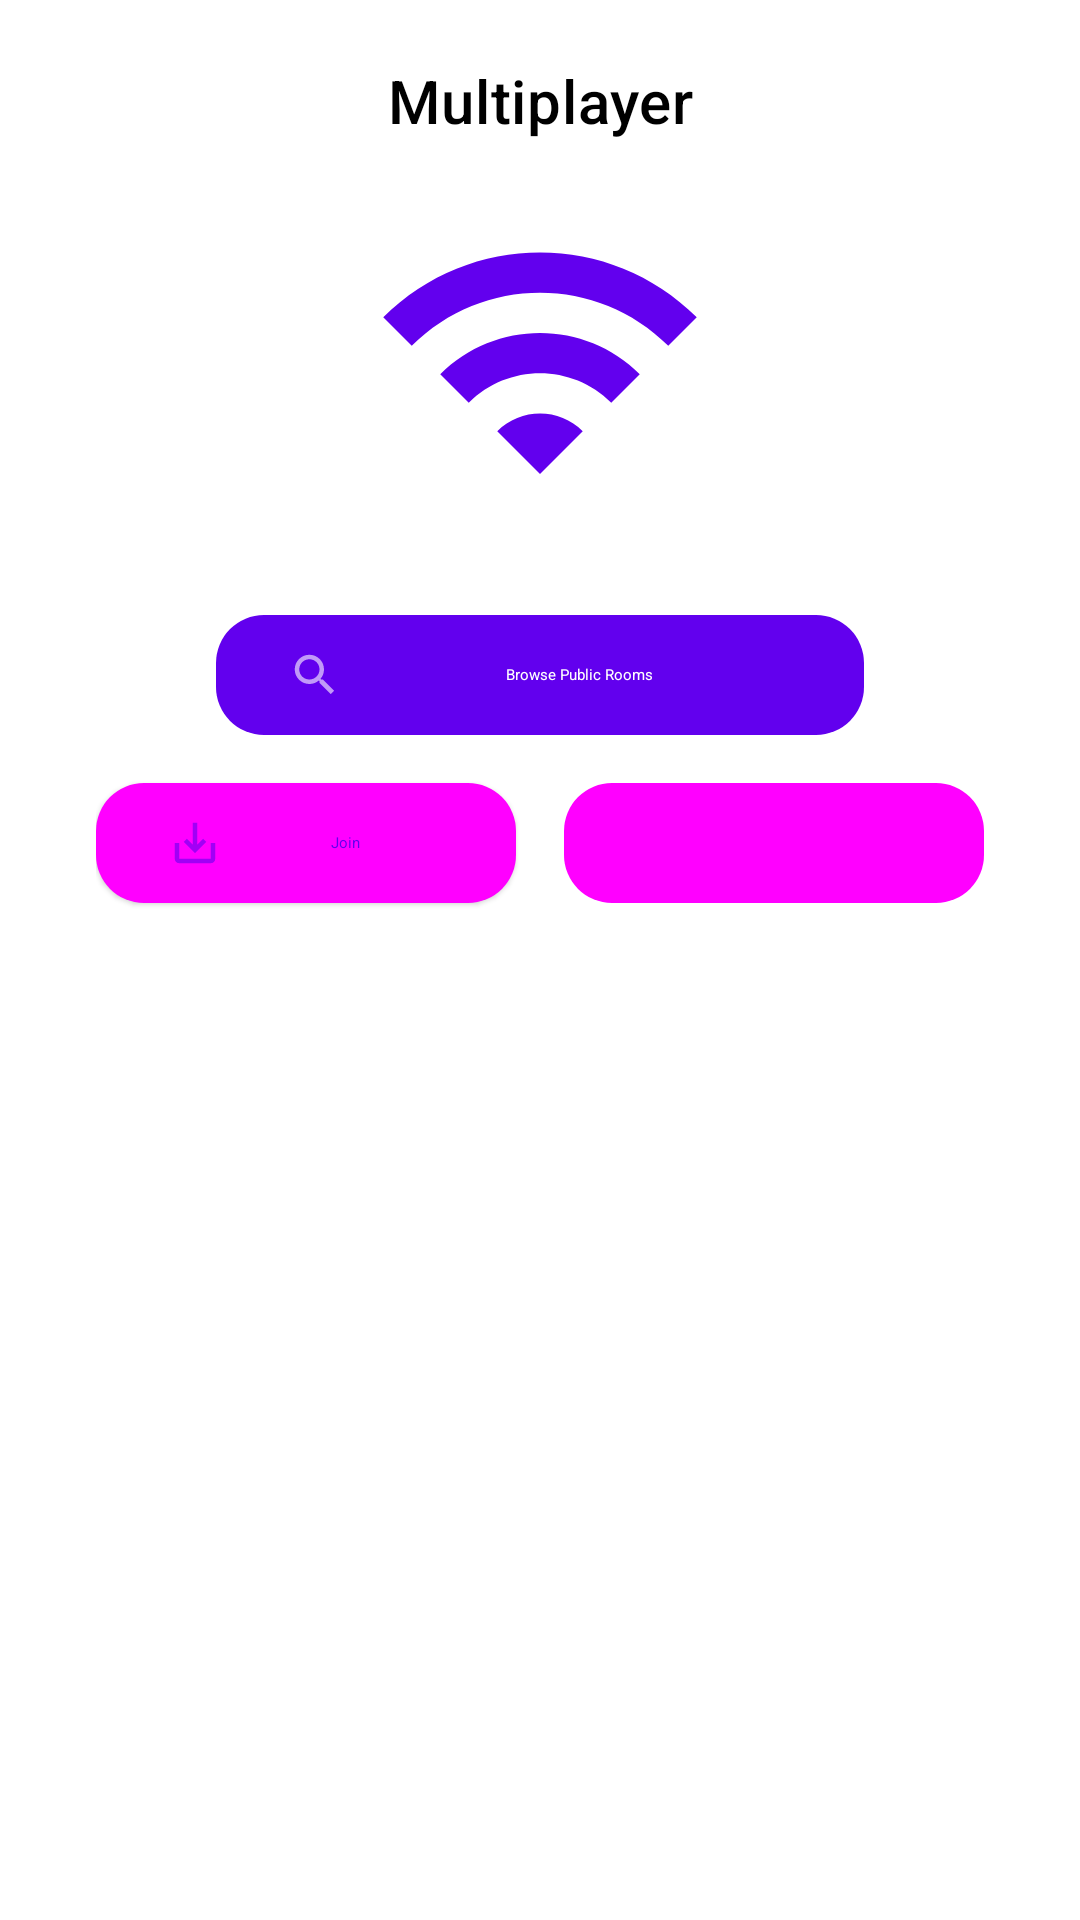

Icons on this 1080px×1920px Android screen, each with the point to tap as (x=x, y=y):
network: (x=540, y=363)
